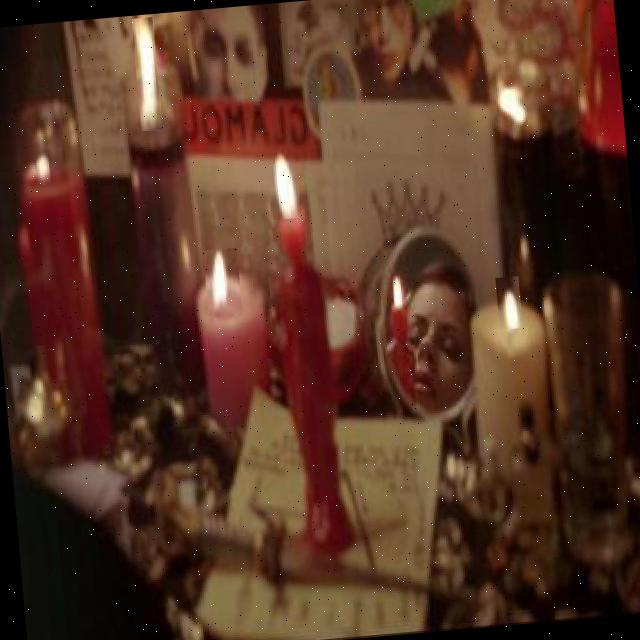fire: (131, 16, 162, 130), (202, 247, 242, 318), (265, 150, 301, 220), (495, 276, 522, 330), (392, 272, 411, 310), (35, 149, 50, 185)
